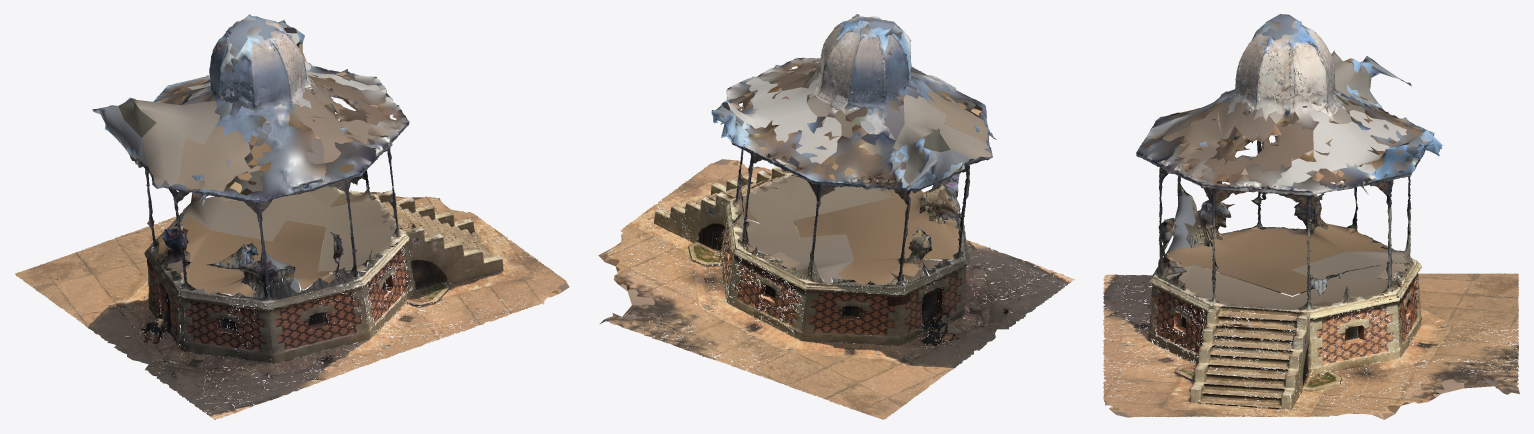
File: Coreto.glb
3 views of the same model, side by side, from view 1: azimuth 30°, elevation 25°; view 2: azimuth 150°, elevation 25°; view 3: azimuth 270°, elevation 25° (orthographic). The views are drawn at different scales.
Parts seen in each view (by area): view 1: Object_9, Object_2, Object_5, Object_6, Object_8, Object_3, Object_4, Object_10, Object_7; view 2: Object_5, Object_2, Object_4, Object_3, Object_9, Object_8, Object_6, Object_7, Object_10; view 3: Object_2, Object_3, Object_8, Object_7, Object_5, Object_6, Object_9, Object_4, Object_10.
Part boxes in pixels (<box>): Object_9: <box>103,57,505,413</box>; Object_2: <box>155,22,465,419</box>; Object_5: <box>15,27,311,338</box>; Object_6: <box>175,44,453,247</box>; Object_8: <box>215,20,569,419</box>; Object_3: <box>181,14,427,348</box>; Object_4: <box>92,37,286,255</box>; Object_10: <box>139,105,370,353</box>; Object_7: <box>306,65,527,333</box>; Object_5: <box>724,14,967,419</box>; Object_2: <box>627,28,1074,371</box>; Object_4: <box>709,35,991,371</box>; Object_3: <box>671,16,962,360</box>; Object_9: <box>622,39,1065,358</box>; Object_8: <box>599,100,1073,344</box>; Object_6: <box>600,34,988,277</box>; Object_7: <box>598,57,820,306</box>; Object_10: <box>880,67,996,259</box>; Object_2: <box>1103,43,1518,379</box>; Object_3: <box>1113,14,1518,367</box>; Object_8: <box>1103,133,1519,417</box>; Object_7: <box>1103,150,1434,419</box>; Object_5: <box>1227,21,1518,347</box>; Object_6: <box>1136,44,1410,419</box>; Object_9: <box>1115,68,1419,416</box>; Object_4: <box>1244,46,1518,345</box>; Object_10: <box>1136,94,1318,317</box>.
Size of the model in its own units: 5.01 by 4.01 by 4.75.
Materials: 1 (1 with a texture image).
